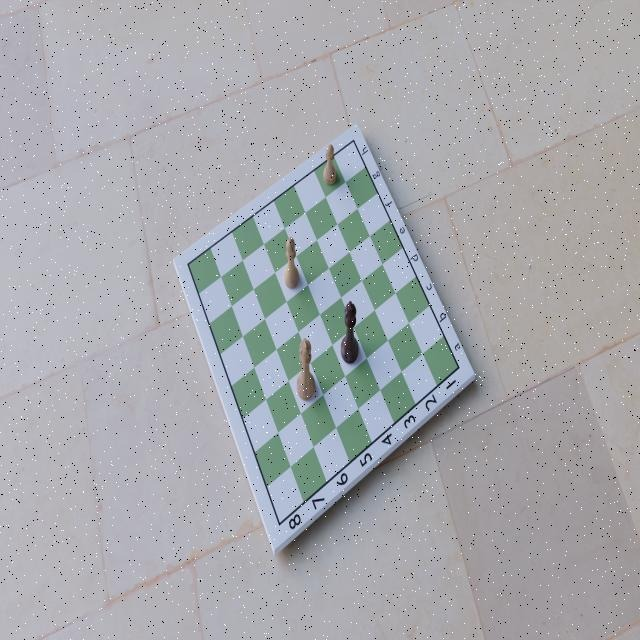black-king: (339, 300, 360, 366)
white-bishop: (280, 233, 301, 292)
white-king: (295, 335, 319, 403)
white-pawn: (320, 143, 340, 191)
